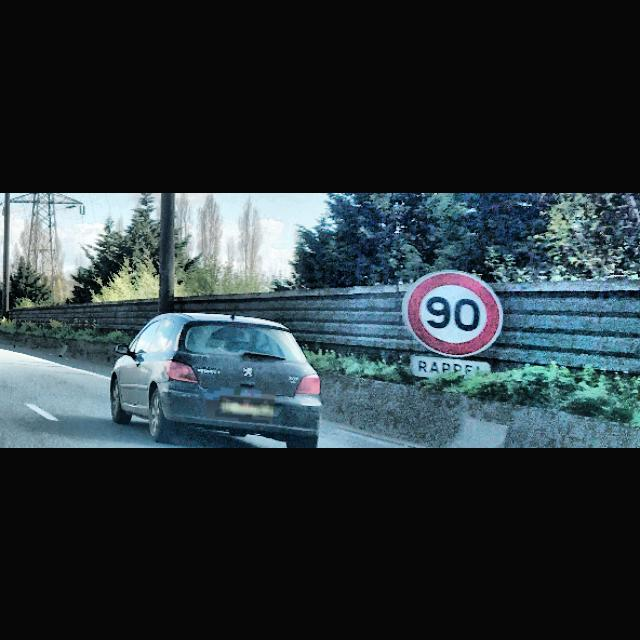speed_90: (401, 268, 505, 358)
